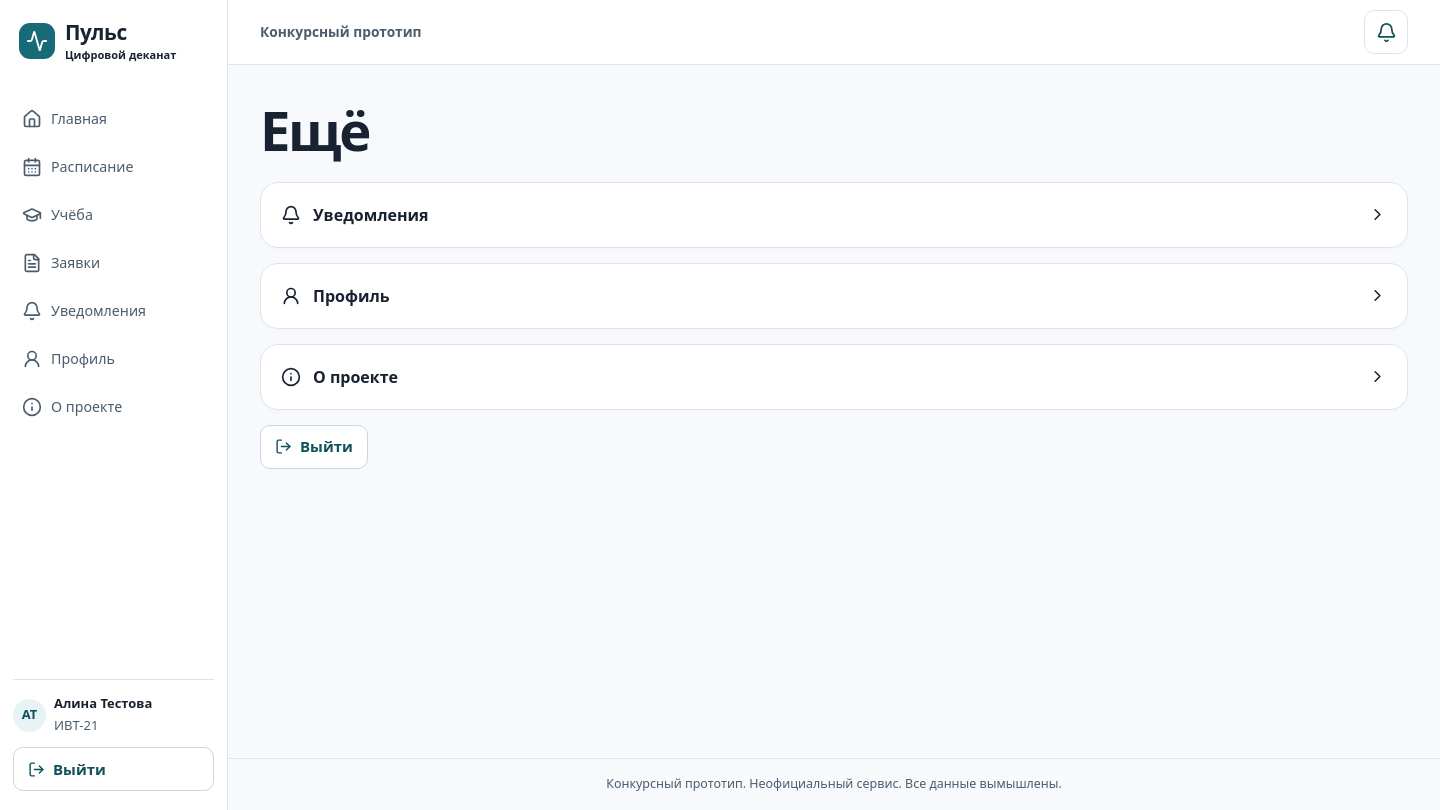
Test: Вход и навигация › открывает уведомления из меню «Ещё»
Expected: the heading "Ещё" is shown, x1=260 y1=102 x2=369 y2=160
Click the link "Уведомления" below "Ещё" at [371, 215], box x1=260 y1=182 x2=1408 y2=248
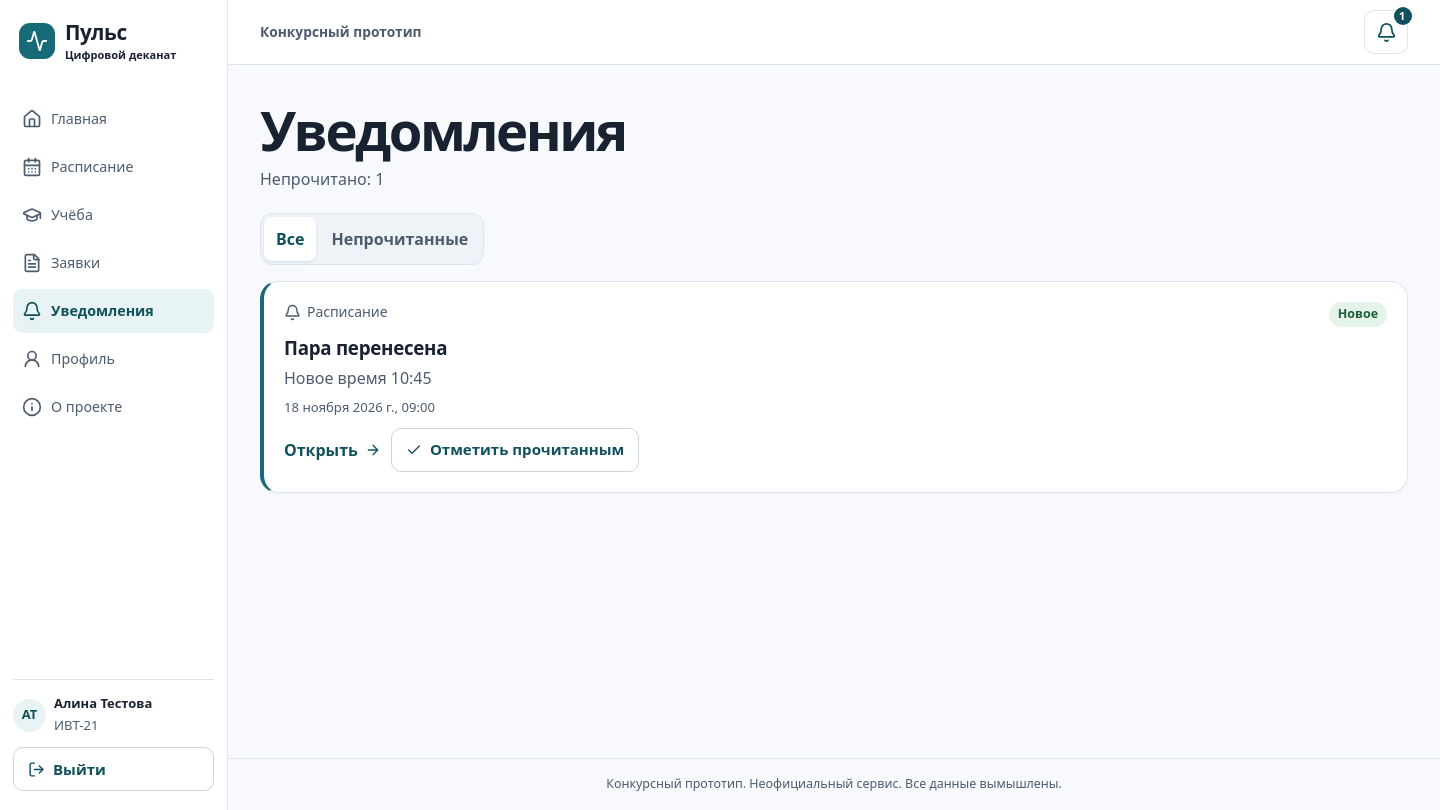
Expected: the heading "Уведомления" is shown, x1=260 y1=102 x2=626 y2=160
